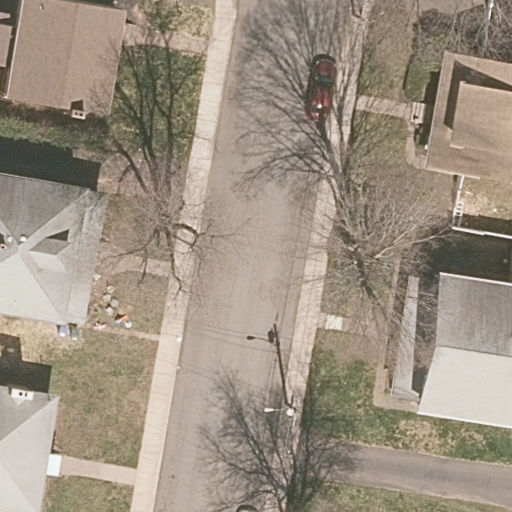DT: (262, 369, 301, 418), (345, 7, 392, 38)
